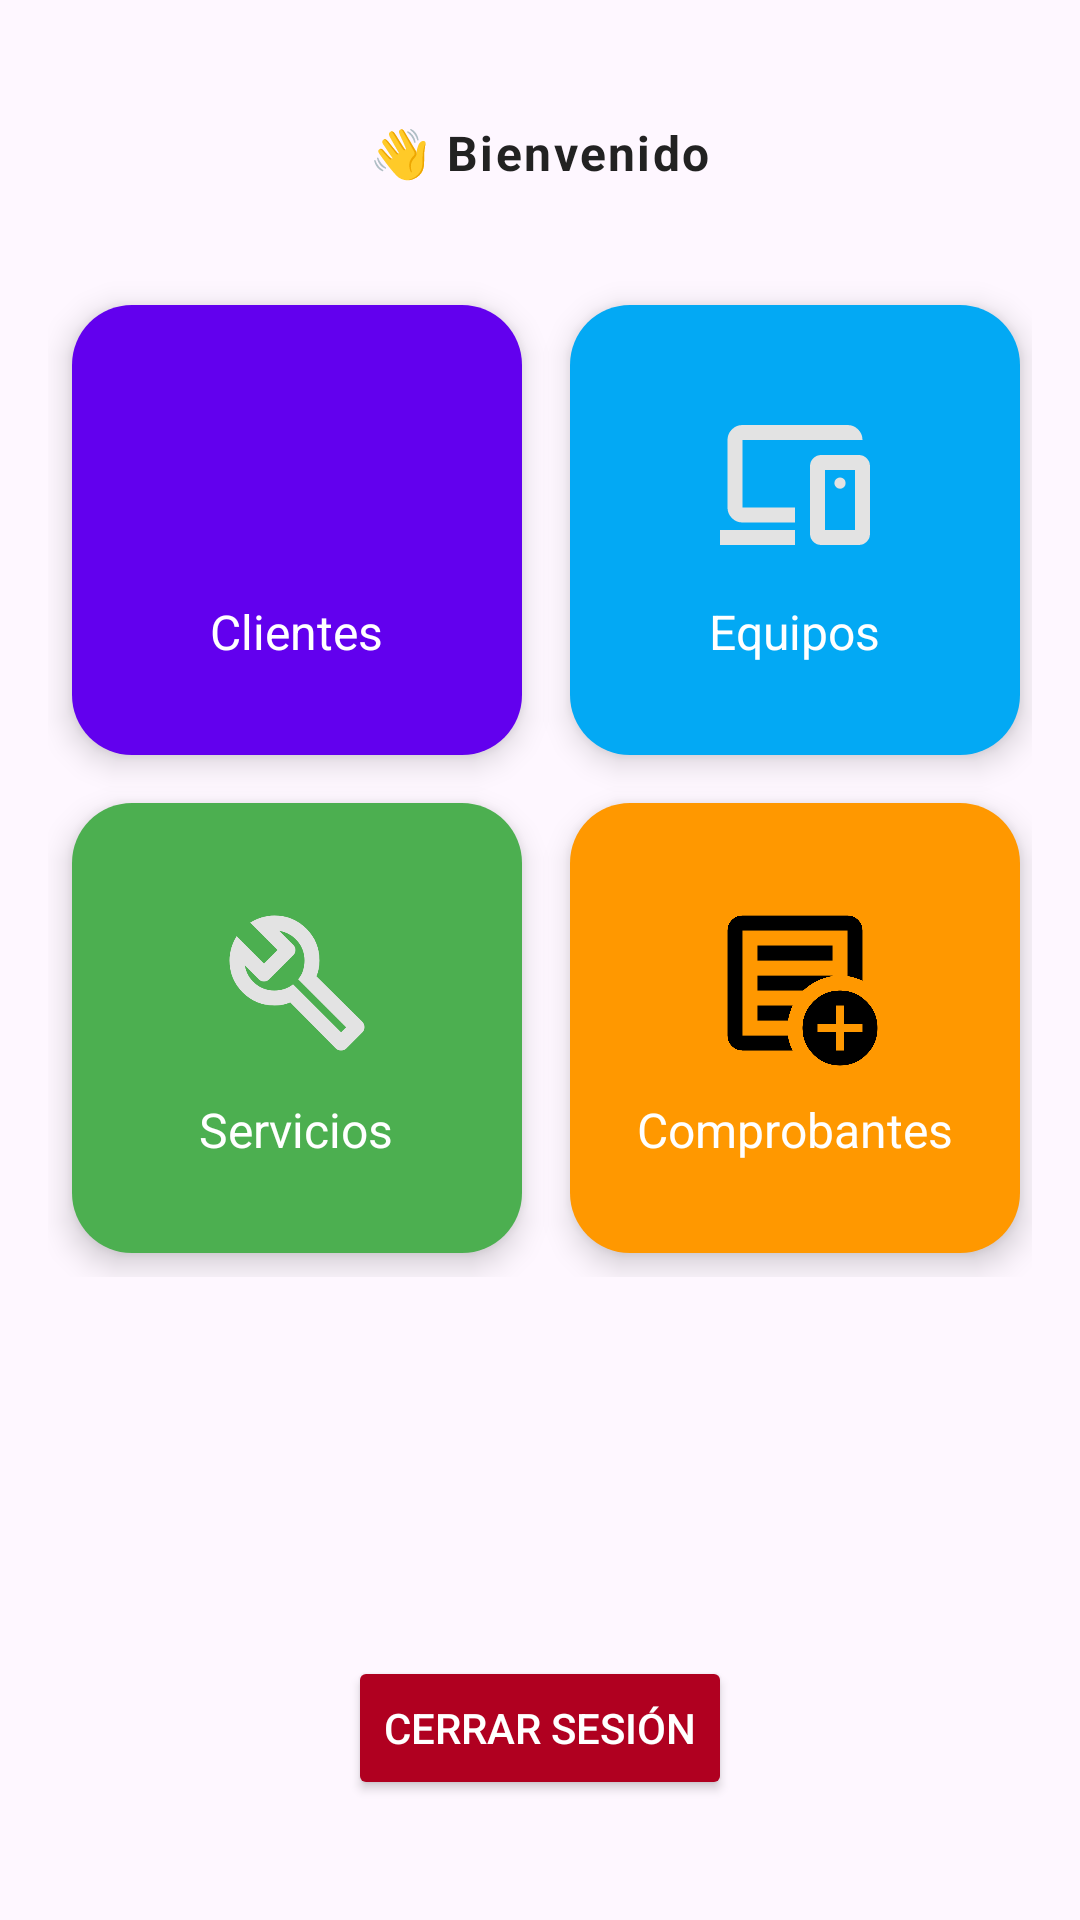

Screen size 1080x1920. Icon name, then its center in pixels as [x,y]:
build: [297,983]
device: [795,485]
invoice: [802,990]
